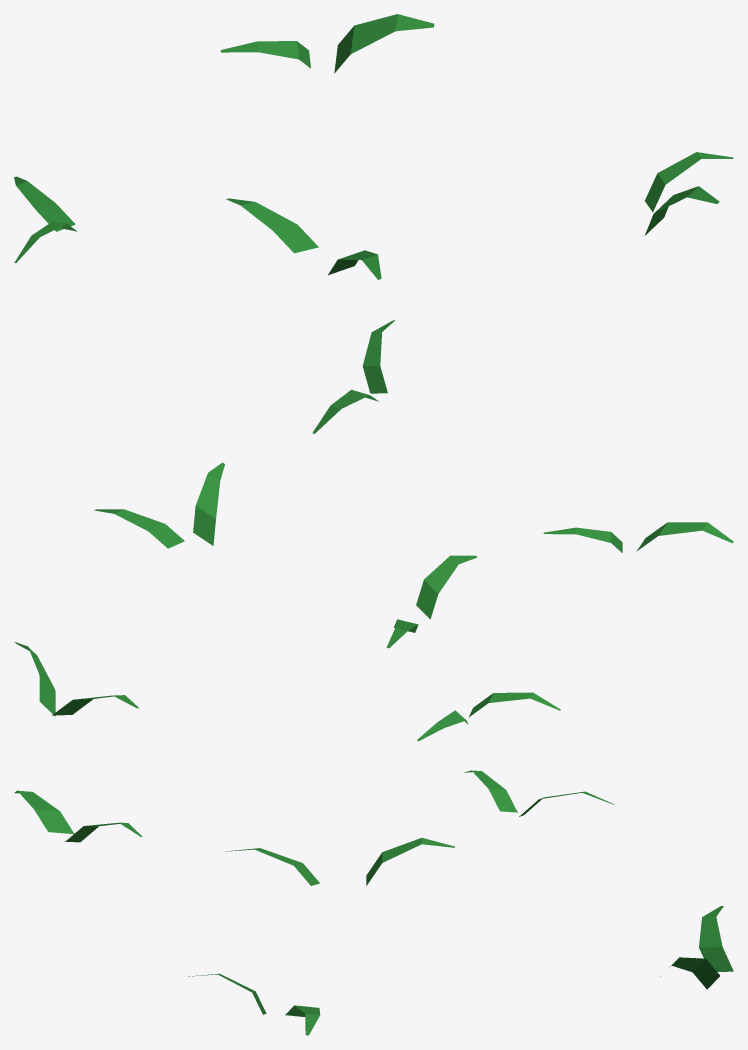
File: GrassSeamless.fbx
3 views of the same model, one above another, from view 1: azimuth 30°, elevation 25°; view 2: azimuth 150°, elevation 25°; view 3: azimuth 270°, elevation 25° (orthographic). The views are drawn at different scales.
Visible parts, largest first — view 1: Plane.006, Plane, Plane.007, Plane.004, Plane.003, Plane.009, Plane.010, Plane.001; view 2: Plane.010, Plane.001, Plane.009, Plane.005, Plane.006, Plane.002, Plane.004, Plane.007; view 3: Plane.007, Plane.005, Plane.006, Plane, Plane.002, Plane.001, Plane.009.
Part boxes in pixels (bbox=[...]): Plane.006: bbox=[334, 14, 434, 73]; Plane: bbox=[226, 198, 318, 253]; Plane.007: bbox=[220, 41, 310, 68]; Plane.004: bbox=[362, 320, 394, 393]; Plane.003: bbox=[14, 176, 75, 231]; Plane.009: bbox=[645, 152, 733, 212]; Plane.010: bbox=[644, 186, 719, 235]; Plane.001: bbox=[328, 250, 381, 279]; Plane.010: bbox=[193, 462, 224, 545]; Plane.001: bbox=[416, 555, 477, 619]; Plane.009: bbox=[94, 509, 184, 548]; Plane.005: bbox=[636, 522, 733, 551]; Plane.006: bbox=[15, 642, 55, 716]; Plane.002: bbox=[468, 692, 560, 717]; Plane.004: bbox=[543, 527, 622, 552]; Plane.007: bbox=[52, 695, 139, 715]; Plane.007: bbox=[699, 906, 733, 971]; Plane.005: bbox=[14, 790, 74, 834]; Plane.006: bbox=[660, 957, 719, 989]; Plane: bbox=[366, 838, 454, 885]; Plane.002: bbox=[464, 770, 517, 812]; Plane.001: bbox=[225, 848, 319, 885]; Plane.009: bbox=[285, 1005, 320, 1035].
Size of the model in its own units: 152 by 14.59 by 167.
